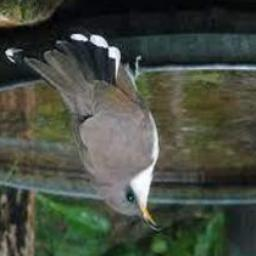Cuckoo: (6, 35, 163, 231)
